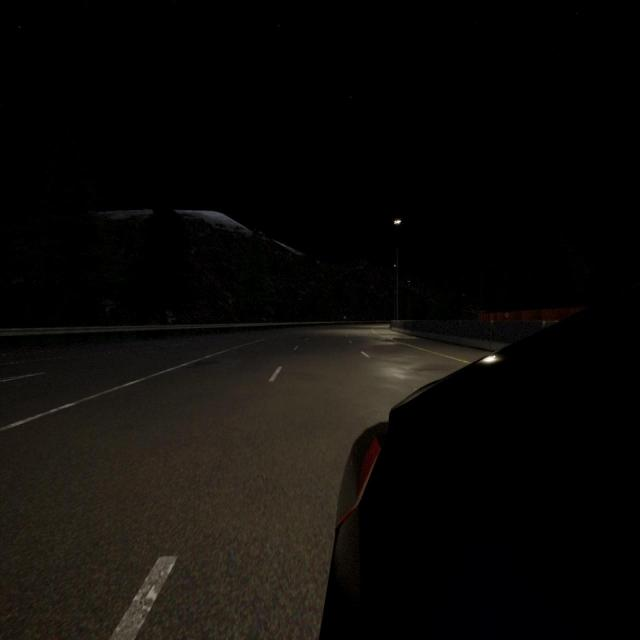Traffic_Signs: (504, 313, 508, 318)
Vehicle: (320, 286, 640, 638)
